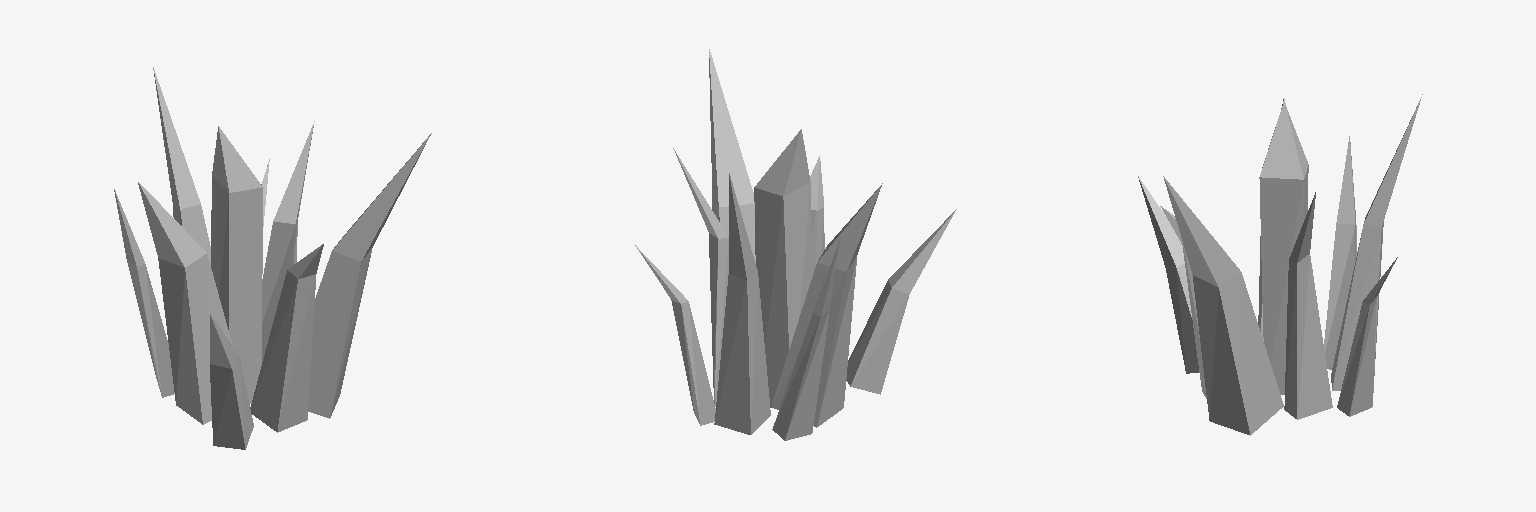
File: grass11.obj
3 views of the same model, side by side, from view 1: azimuth 30°, elevation 25°; view 2: azimuth 150°, elevation 25°; view 3: azimuth 270°, elevation 25° (orthographic).
Visible parts, largest first — view 1: Grass6_Cone.025; view 2: Grass6_Cone.025; view 3: Grass6_Cone.025.
Boxes of the visible parts, x1,y1,x2,y2 form: Grass6_Cone.025: [114, 67, 431, 449]; Grass6_Cone.025: [635, 49, 956, 440]; Grass6_Cone.025: [1138, 94, 1422, 435].
Size of the model in its own units: 0.5221 by 0.6202 by 0.5478.